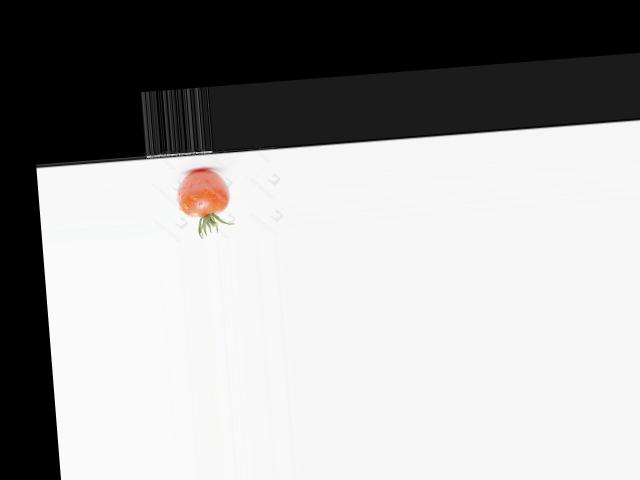tomato: (176, 167, 231, 217)
